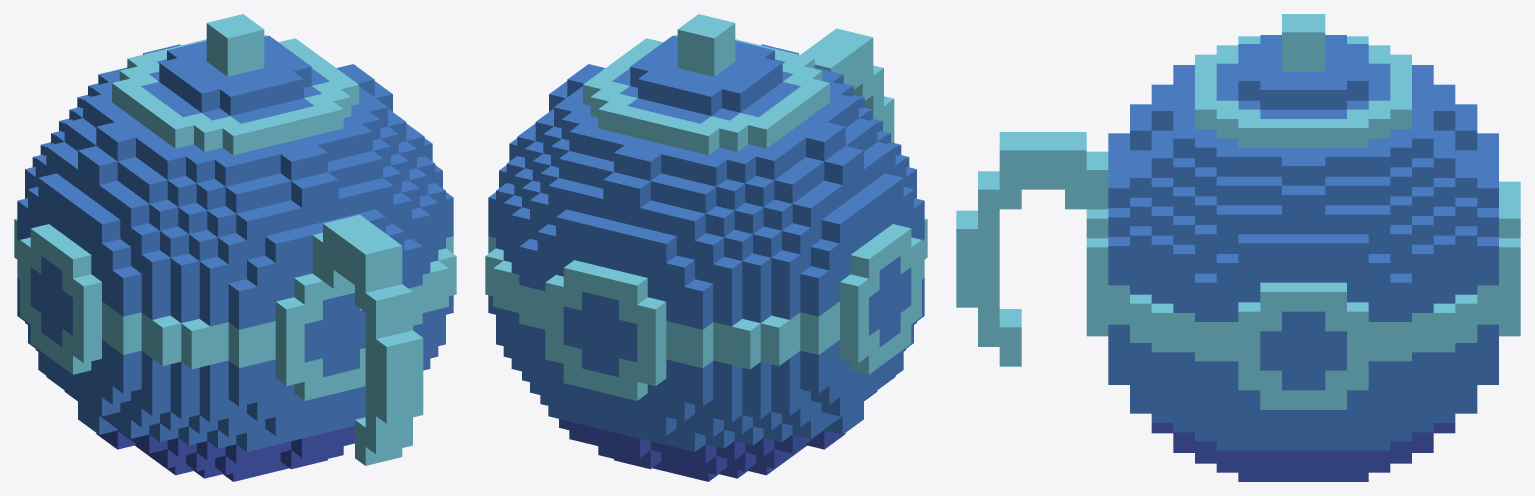
The model's file is teapot_1.obj.
3 renders of one model, left to right at view 1: azimuth 30°, elevation 25°; view 2: azimuth 150°, elevation 25°; view 3: azimuth 270°, elevation 25°, orthographic. The views are drawn at different scales.
Size of the model in its own units: 2 by 2.1 by 2.6.
1 material, 1 textured.
